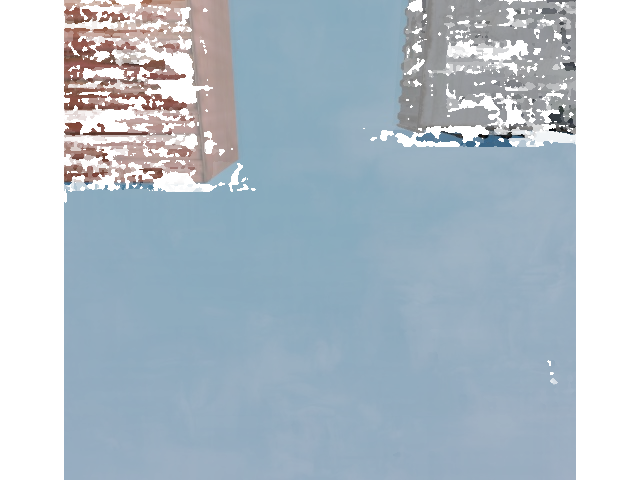container1: (400, 0, 620, 139)
container4: (0, 0, 249, 190)
